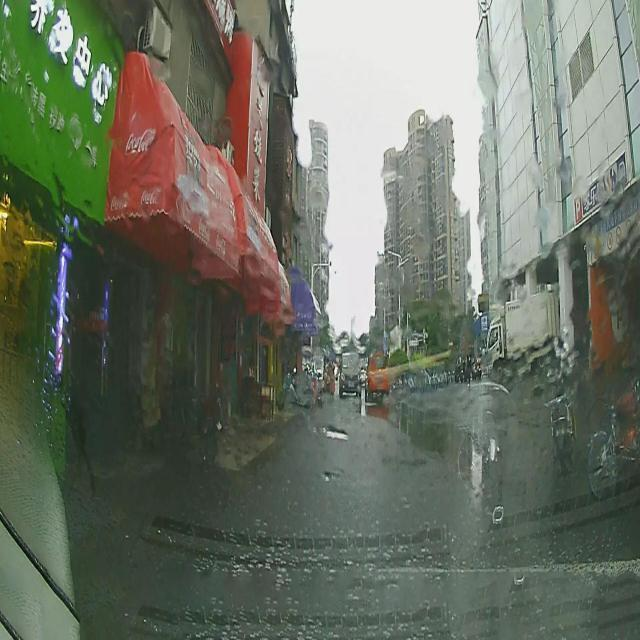car: (364, 352, 389, 401), (338, 353, 361, 397)
